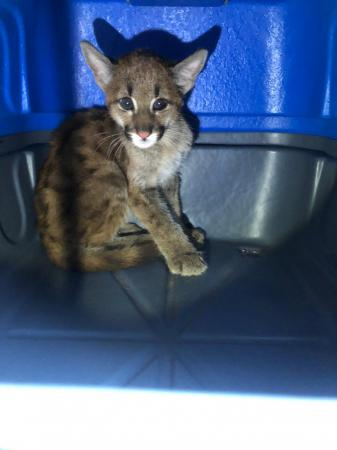OncaParda: (26, 37, 228, 287)
